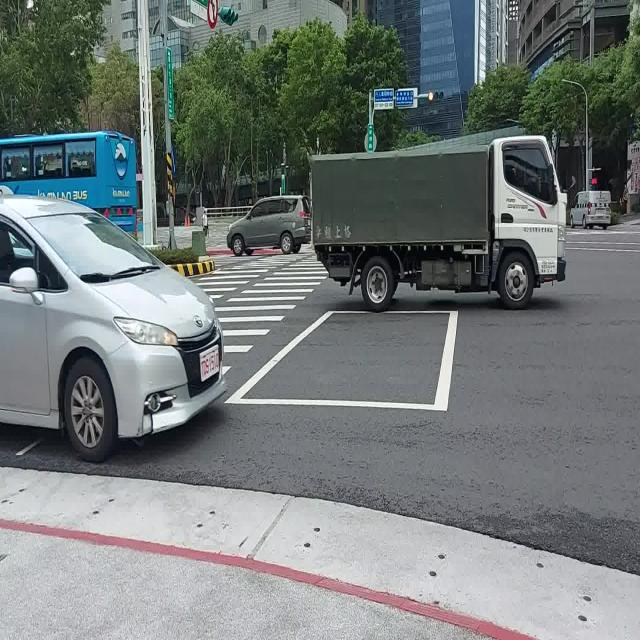car: (0, 196, 225, 462), (226, 196, 311, 256), (570, 191, 611, 229)
crosswalk: (196, 249, 329, 383)
trunk: (310, 136, 565, 311)
